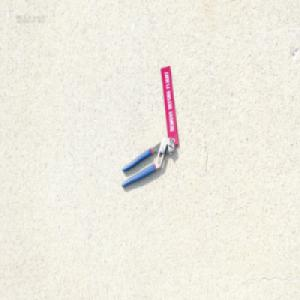Label: (160, 65, 179, 147)
Pliers: (121, 135, 175, 189)
